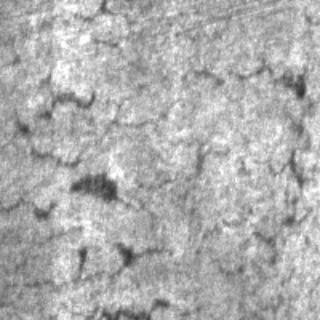crazing: (0, 110, 296, 230), (2, 0, 268, 104), (155, 142, 305, 314)
